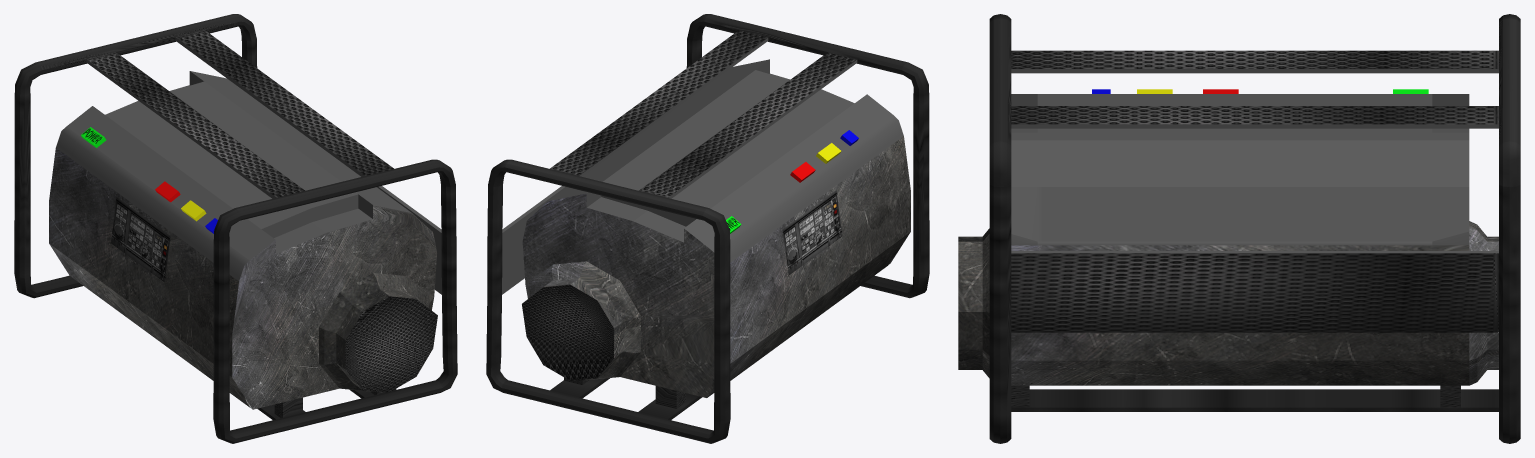
File: Gerador.fbx
The picture shows the model from 3 angles, left to right: view 1: azimuth 30°, elevation 25°; view 2: azimuth 150°, elevation 25°; view 3: azimuth 270°, elevation 25°; orthographic projection. The views are drawn at different scales.
Visible parts, largest first — view 1: polySurface1; view 2: polySurface1; view 3: polySurface1.
Boxes of the visible parts, x1,y1,x2,y2 form: polySurface1: (14, 14, 457, 443); polySurface1: (486, 14, 929, 443); polySurface1: (958, 14, 1520, 443).
Bounding box in the file's own units: 8.17 × 7.53 × 12.89.
